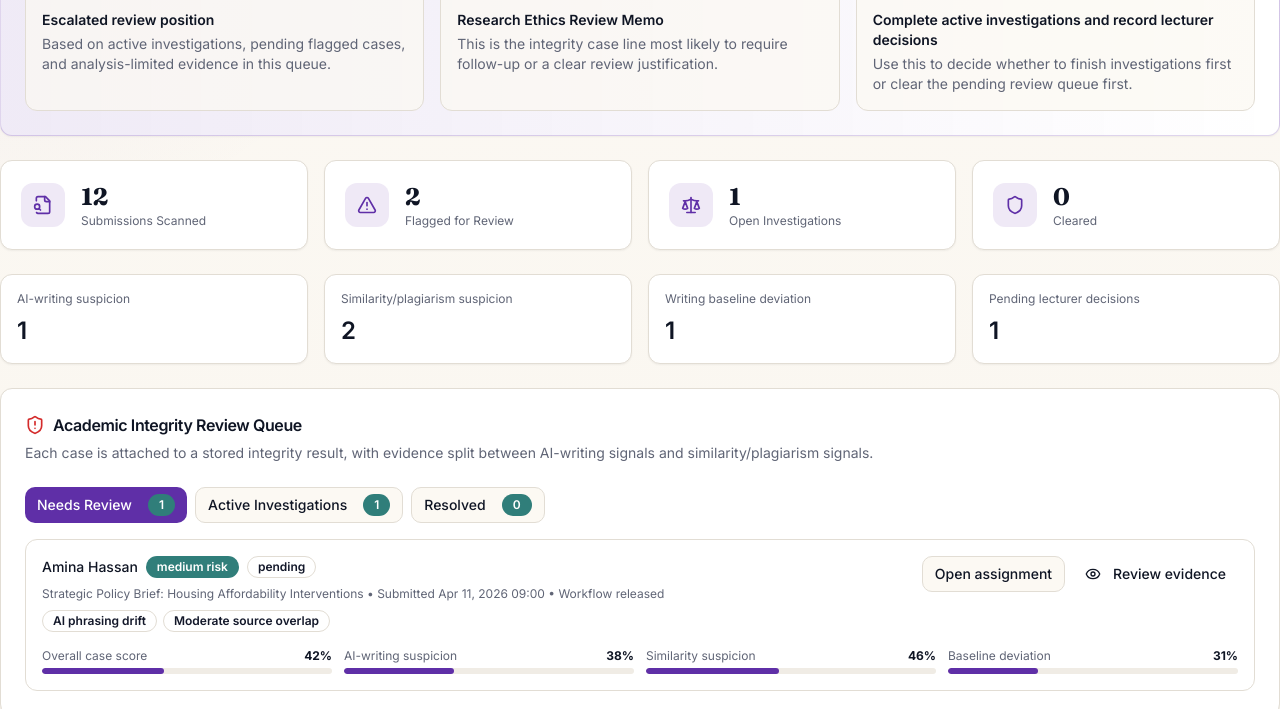
Test: AcademicIntegrity demo mode › renders synthetic integrity cases and skips Supabase reads in demo mode
(page scrolled)
expect the text "Academic Integrity Review Queue" is shown: met, box [53,413,302,437]
expect the text "Escalated review position" is shown: met, box [42,11,214,28]
Click the button "Review evidence".
click(1156, 574)  # box [1073,556,1238,592]
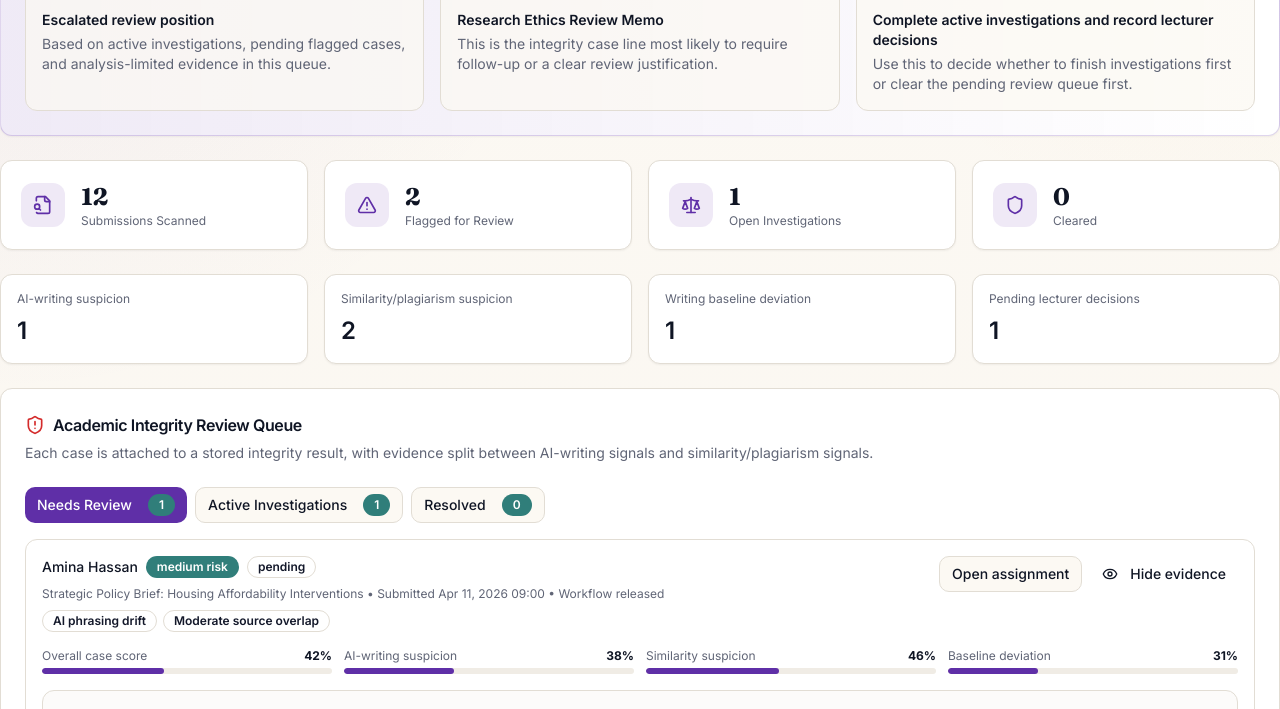
Click the button "Active Investigations 1".
click(299, 505)  # box [195,487,403,523]
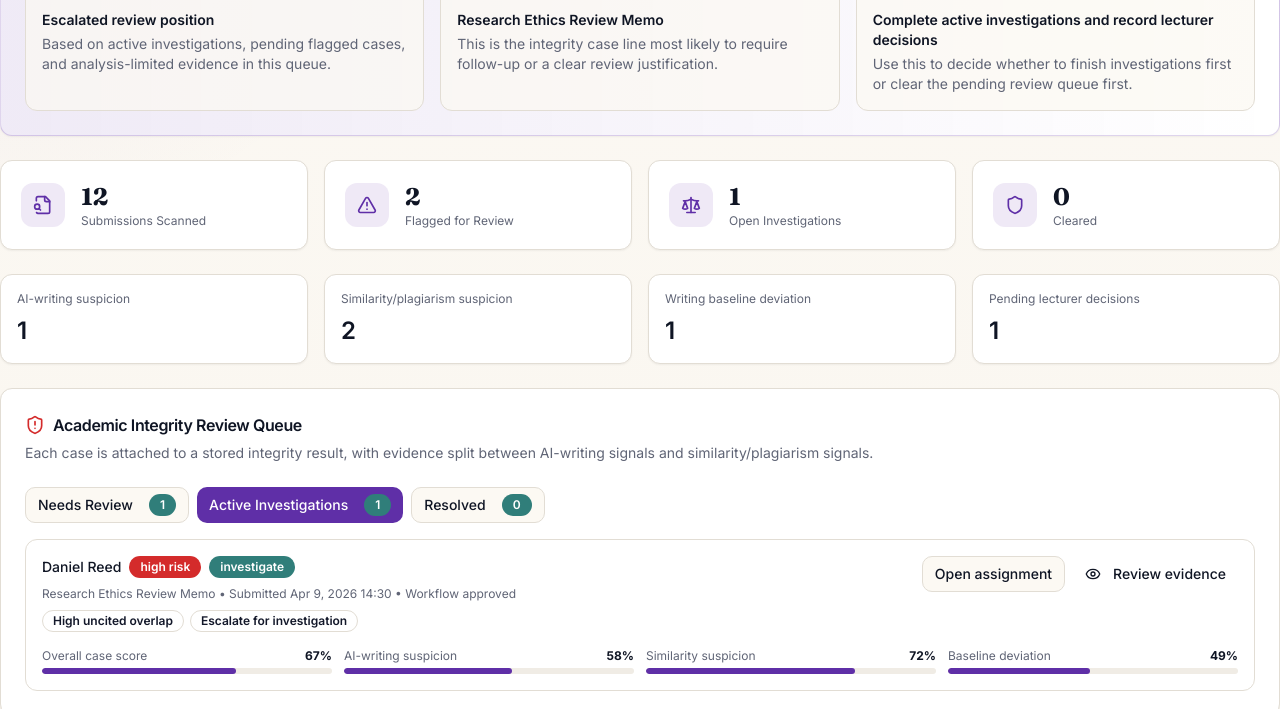
expect the text "Daniel Reed" is shown: met, box [42,557,122,577]
